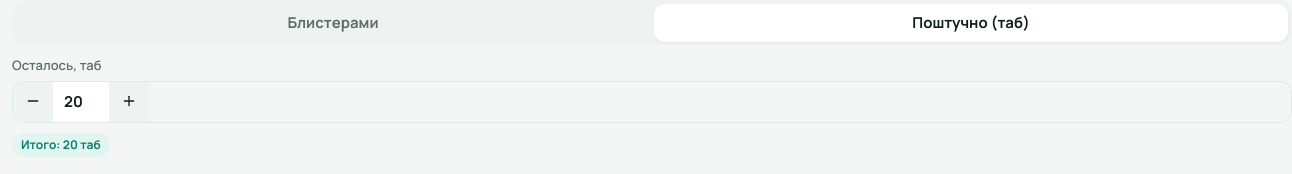
it: QuantityInput › пустое поле при уходе фокуса становится минимумом
This screenshot has width=1292, height=174.
Clear the number field named "Осталось, таб" at (81, 102), box [53,82,109,122]
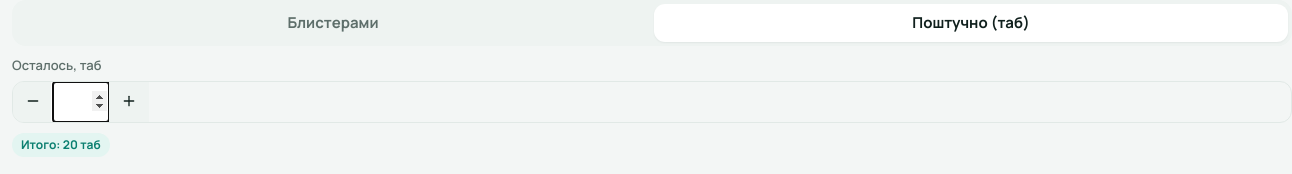
Press Tab
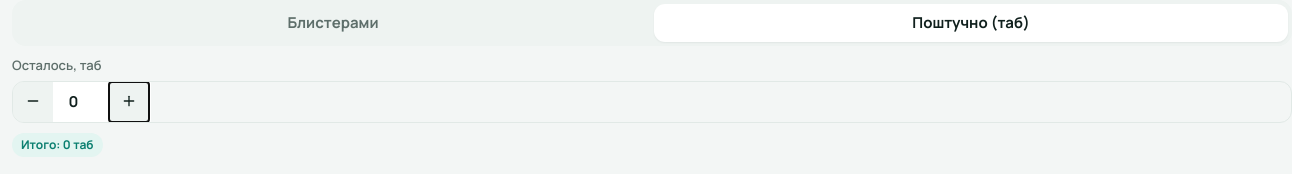
Result: the number field named "Осталось, таб" holds "0" at [53,82,109,122]
